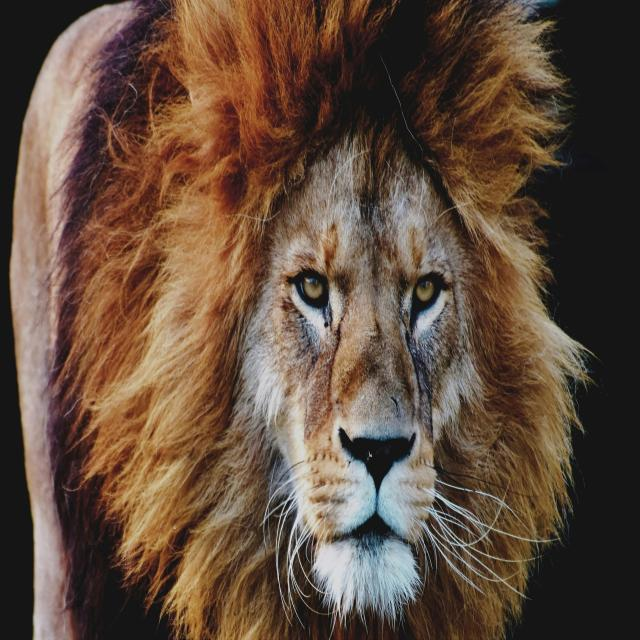Lion: (10, 0, 577, 640)
